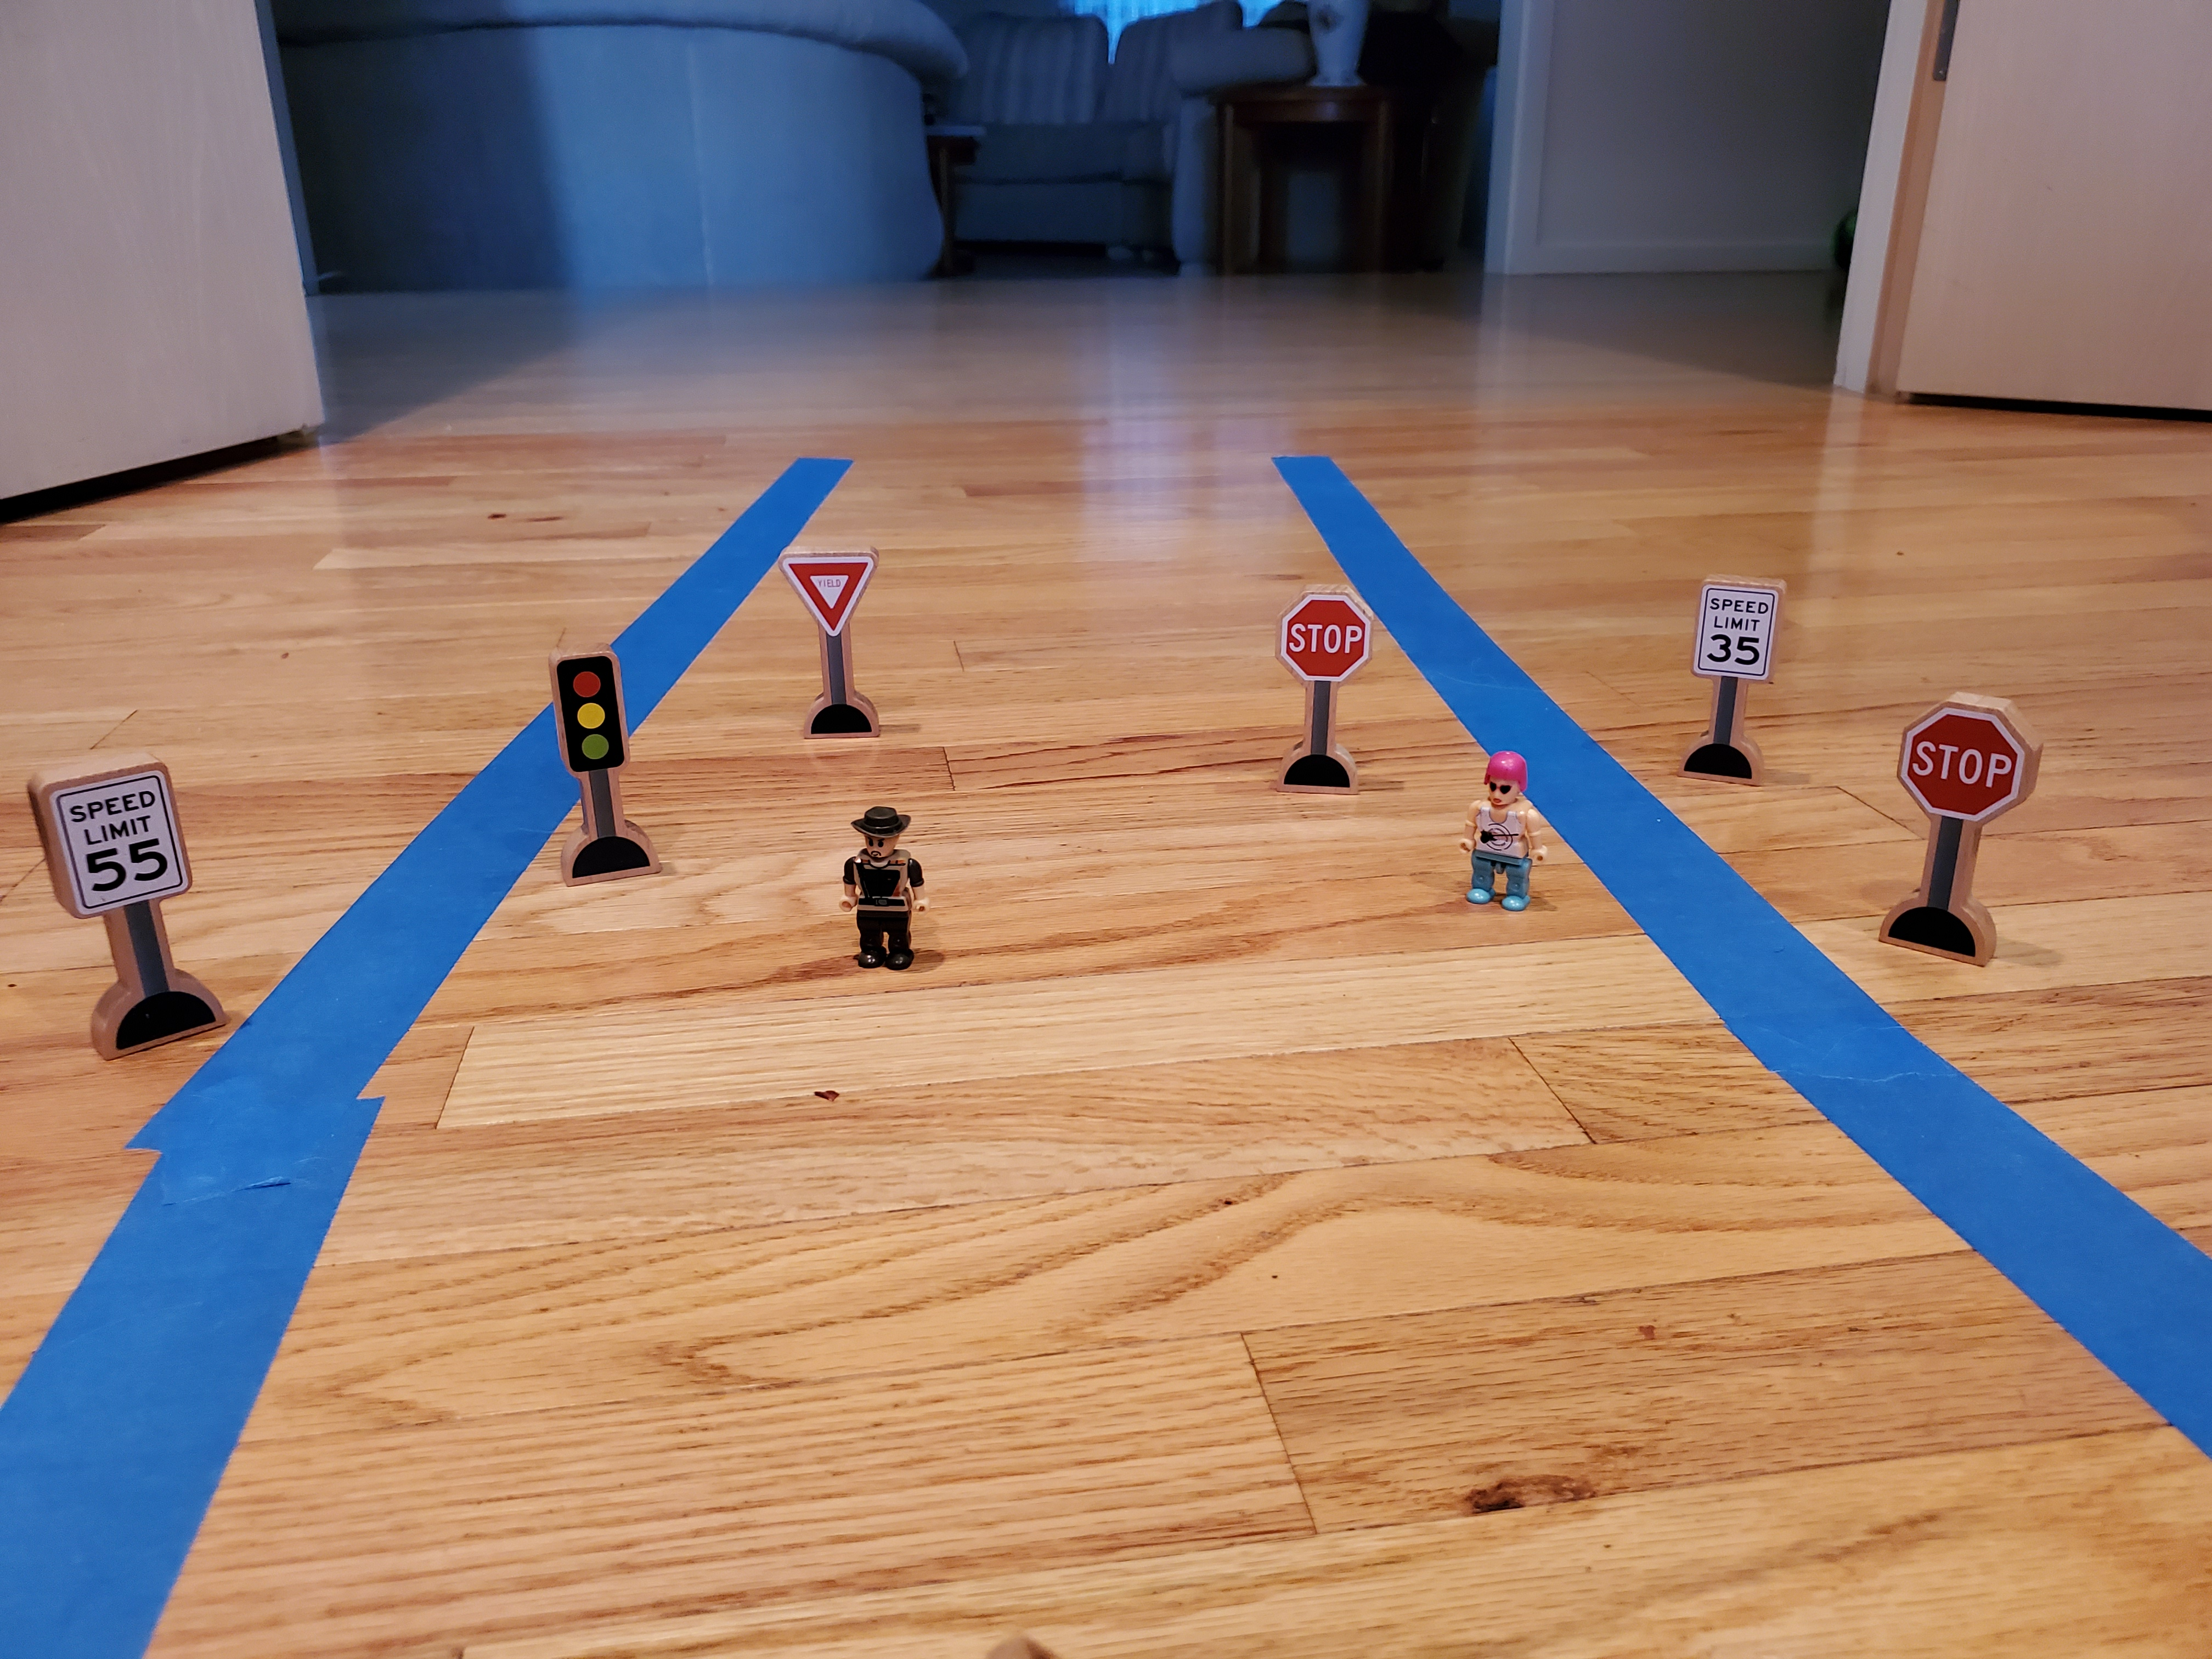Red Traffic Light: (533, 636, 640, 787)
Speed Limit 35: (1684, 568, 1786, 695)
Speed Limit 55: (24, 753, 215, 932)
Stop Sign: (1887, 681, 2052, 852), (1274, 579, 1380, 701)
Yield Sign: (771, 540, 893, 645)
person: (831, 793, 939, 980), (1451, 744, 1553, 913)
